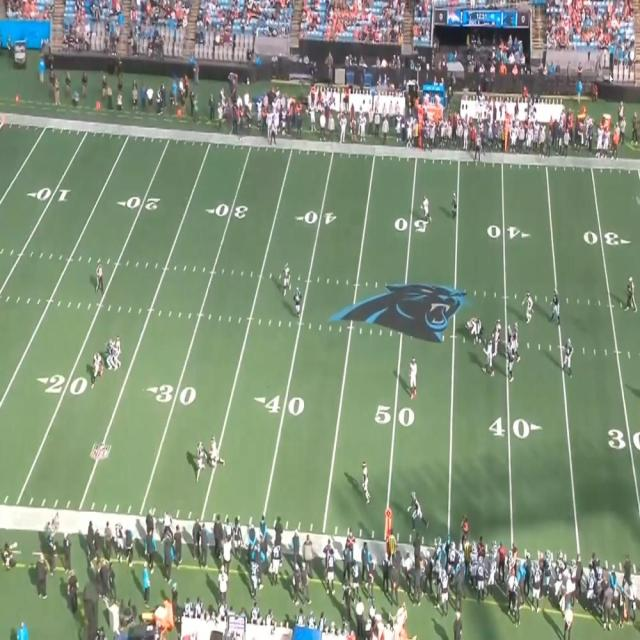db: (114, 334, 125, 367), (198, 438, 207, 474), (92, 348, 102, 380), (362, 460, 369, 502), (284, 261, 290, 296)
lb: (410, 359, 420, 399), (422, 196, 430, 223)
qb: (566, 338, 574, 374)
skill: (209, 438, 221, 470), (410, 488, 419, 529), (105, 338, 114, 369), (451, 191, 458, 219), (295, 289, 301, 316)
